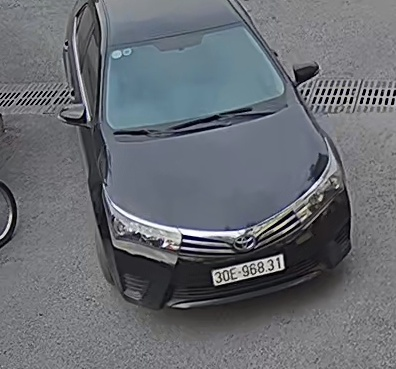vehicle plate: (212, 253, 289, 287)
